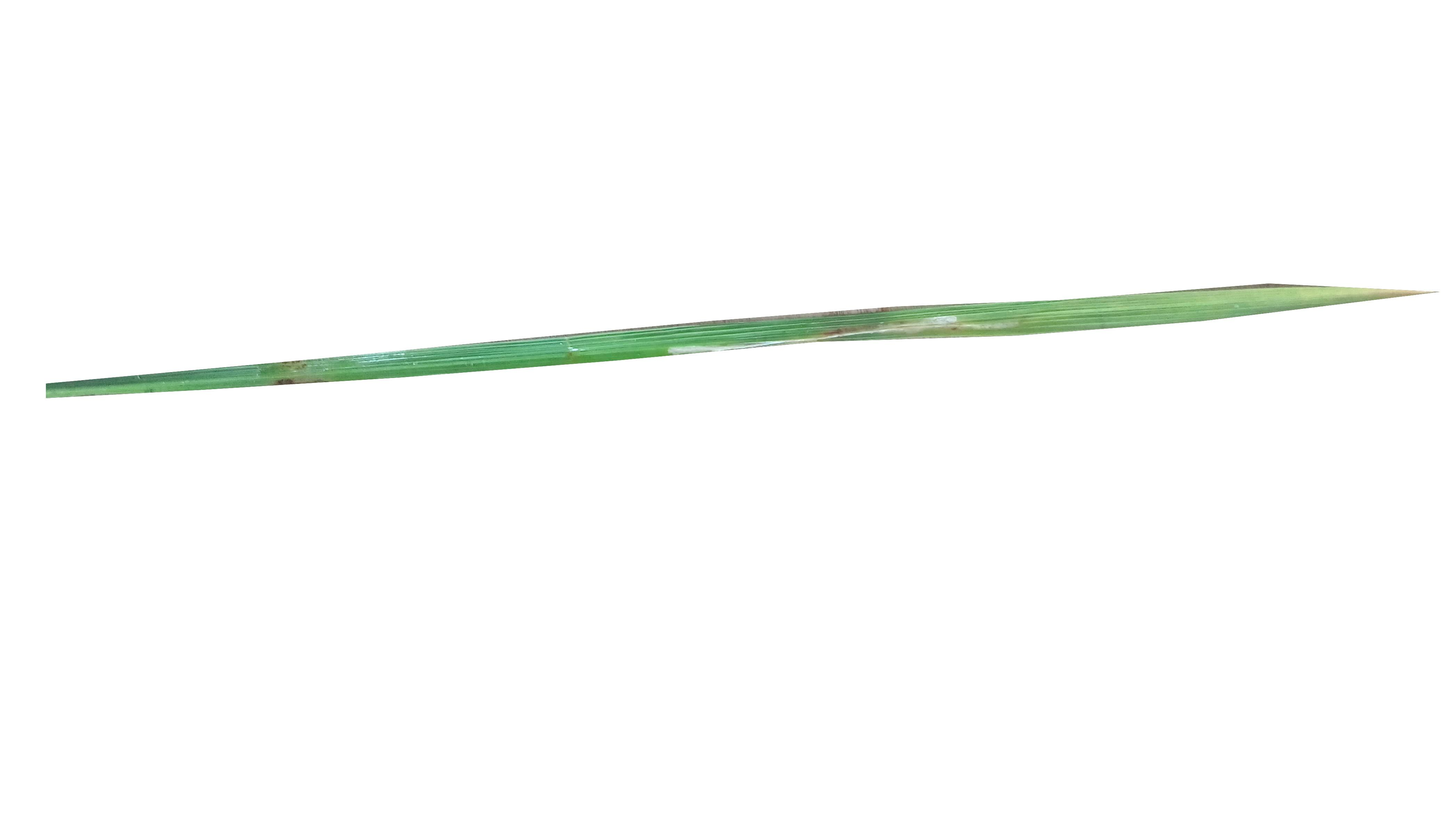Blight: (810, 320, 1017, 338)
Rice blast: (263, 355, 327, 392)
Tungro: (1299, 288, 1439, 307)
